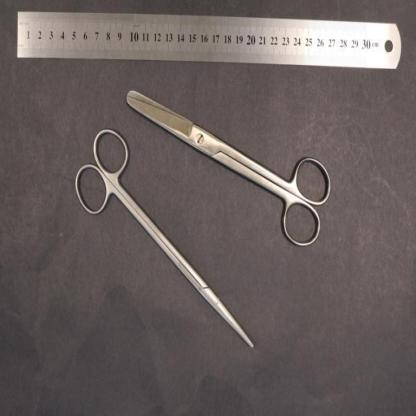7 Metzenbaum Scissors: (74, 126, 254, 349)
Dressing Scissors: (126, 90, 332, 250)
